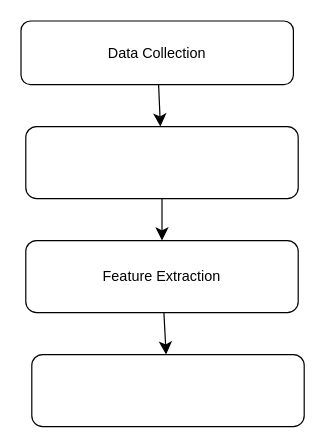
Some shapes in this 325 by 448 pixel diagram are drawn without their labels. The centre of each missing label's shape, as x and y in pixels:
"Classification and evaluation" belongs at (167,390).
"Data Cleaning and Data Processing" belongs at (161,162).
